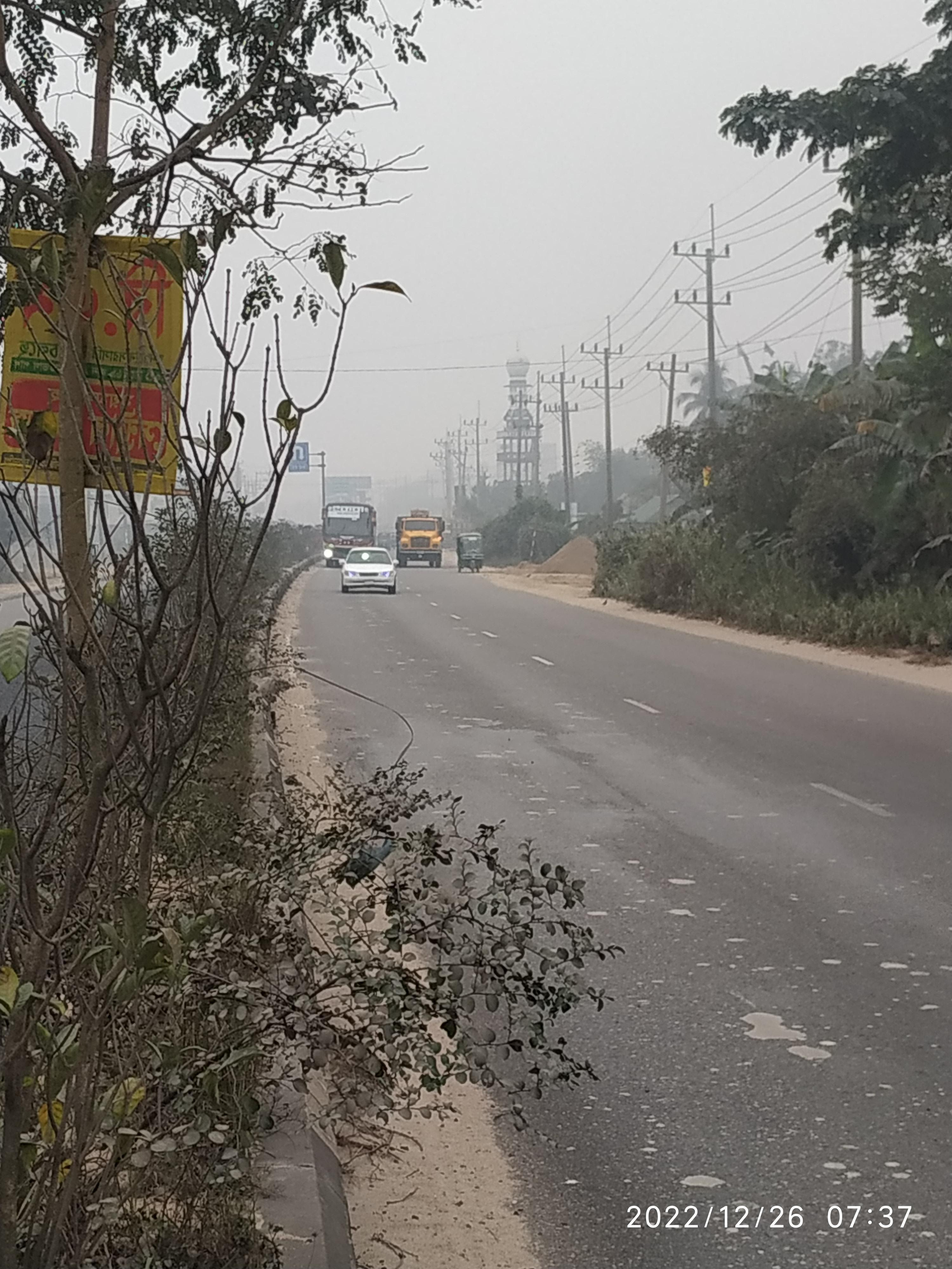Bus: (308, 492, 389, 575)
Car: (330, 539, 406, 601), (446, 525, 501, 582)
Truck: (387, 506, 452, 567)
